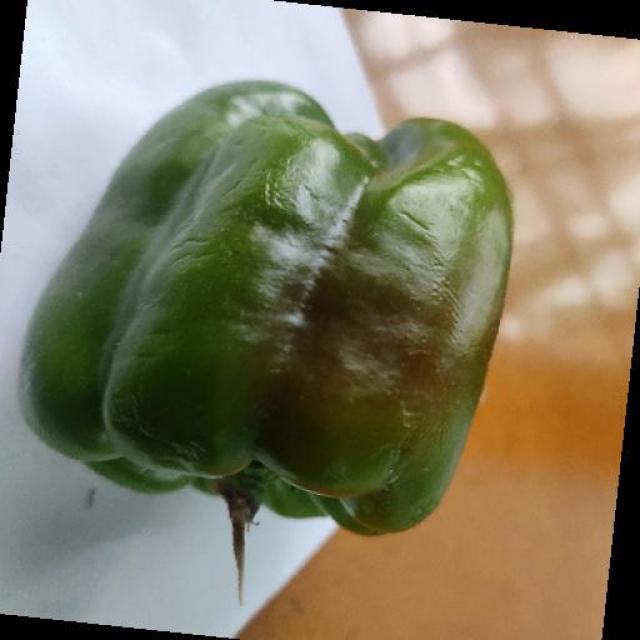Stale_Capsicum: (73, 79, 482, 546)
